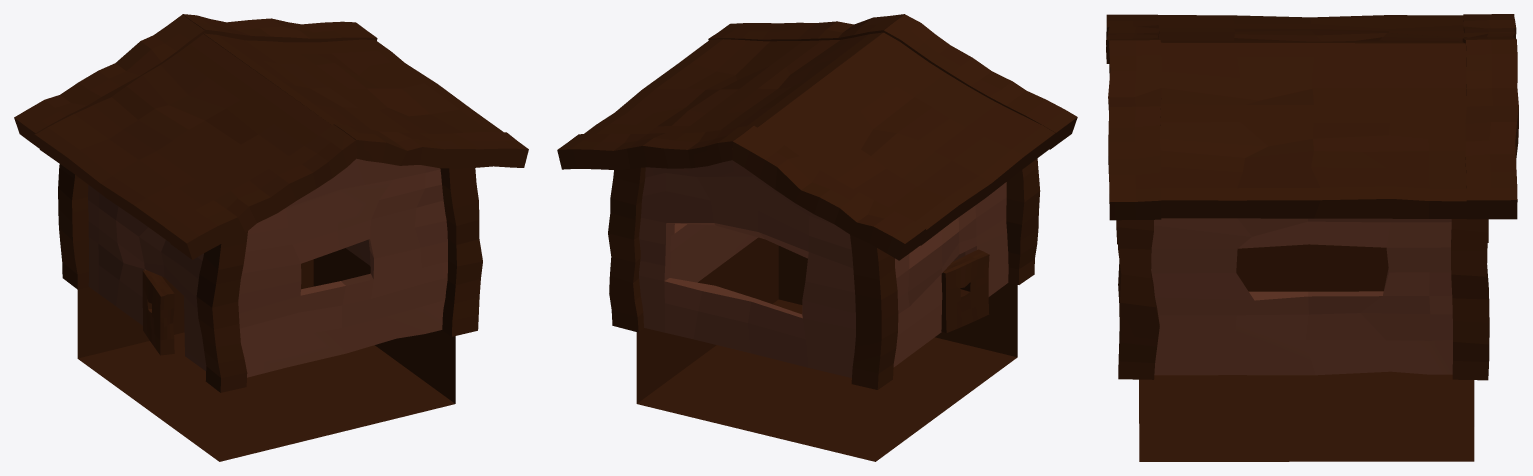
File: hut.fbx
3 views of the same model, side by side, from view 1: azimuth 30°, elevation 25°; view 2: azimuth 150°, elevation 25°; view 3: azimuth 270°, elevation 25° (orthographic). The views are drawn at different scales.
Parts seen in each view (by area): view 1: Cube; view 2: Cube; view 3: Cube.
Boxes of the visible parts, x1,y1,x2,y2 form: Cube: [14, 14, 528, 461]; Cube: [557, 14, 1077, 461]; Cube: [1106, 14, 1518, 461].
Size of the model in its own units: 3971 by 3317 by 3479.
